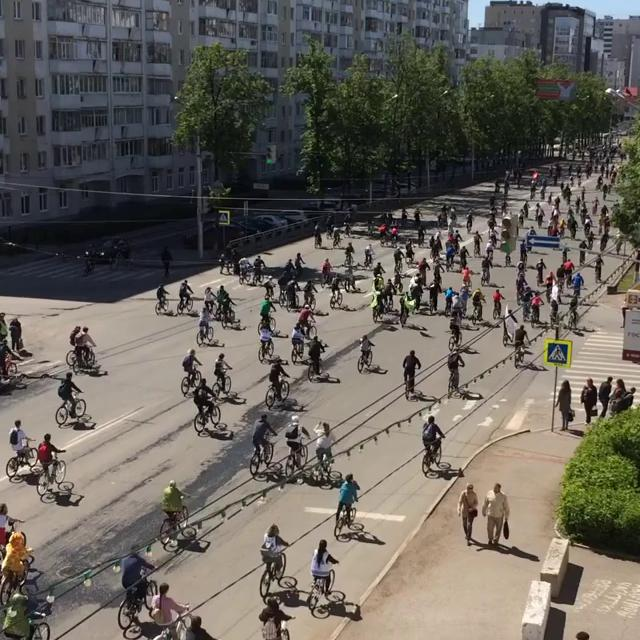bicycle: (117, 577, 158, 639), (306, 567, 346, 618), (259, 551, 297, 599), (158, 503, 196, 551), (36, 453, 74, 501), (0, 555, 34, 607), (5, 438, 39, 480), (333, 500, 364, 541), (421, 435, 451, 477), (249, 438, 277, 477), (285, 440, 308, 482), (55, 395, 86, 426), (194, 398, 221, 433), (264, 377, 290, 409), (66, 344, 95, 367), (181, 365, 202, 395), (211, 370, 232, 399), (196, 322, 214, 346), (357, 347, 373, 373), (258, 337, 274, 363), (176, 293, 193, 315), (220, 306, 235, 328), (291, 339, 304, 364), (155, 295, 171, 315), (329, 288, 342, 308)
